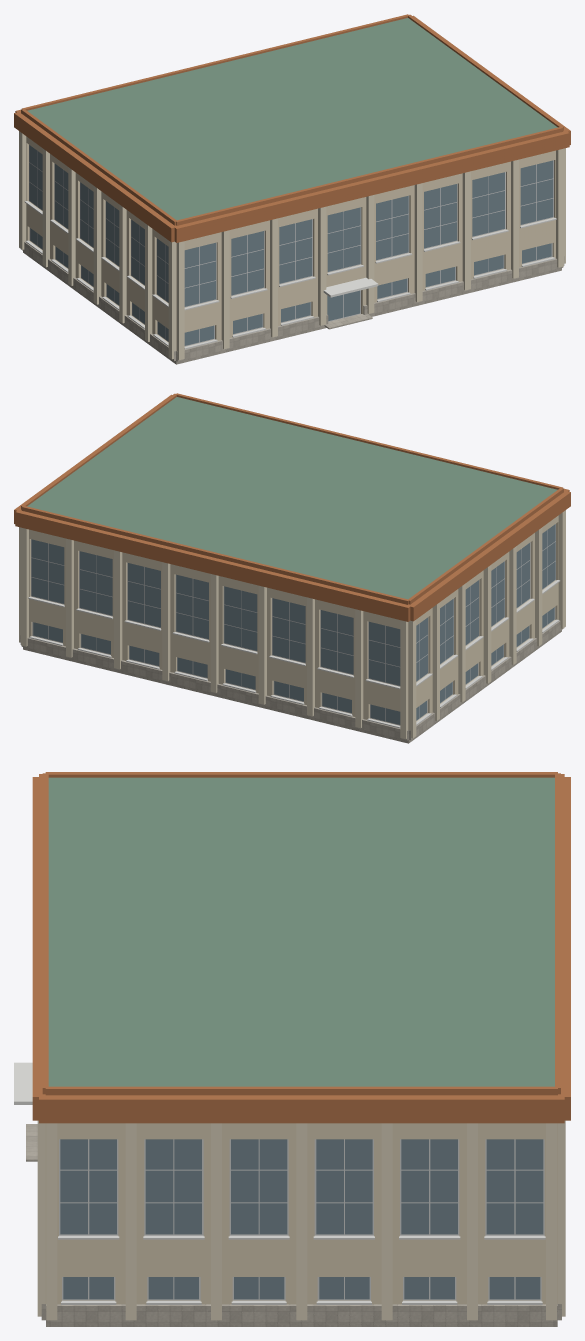
3 views of the same model, one above another, from view 1: azimuth 30°, elevation 25°; view 2: azimuth 150°, elevation 25°; view 3: azimuth 270°, elevation 25° (orthographic). The views are drawn at different scales.
Visible parts, largest first — view 1: gym__roof, gym__glass, gym__paint, gym__cornice, gym__pier, gym__stone, gym__frame, gym__sill, gym__cap; view 2: gym__roof, gym__glass, gym__paint, gym__cornice, gym__pier, gym__stone, gym__frame, gym__sill; view 3: gym__roof, gym__glass, gym__paint, gym__cornice, gym__pier, gym__stone, gym__frame, gym__sill, gym__cap.
Part boxes in pixels (box(x1,y1,x2,y2)): gym__roof: box(27, 18, 557, 220); gym__glass: box(29, 145, 553, 345); gym__paint: box(26, 136, 555, 350); gym__cornice: box(14, 14, 570, 242); gym__pier: box(19, 131, 565, 360); gym__stone: box(21, 241, 564, 364); gym__frame: box(29, 145, 553, 346); gym__sill: box(24, 201, 556, 349); gym__cap: box(323, 277, 378, 297); gym__roof: box(27, 397, 557, 599); gym__glass: box(31, 524, 555, 724); gym__paint: box(29, 515, 558, 729); gym__cornice: box(14, 393, 570, 621); gym__pier: box(19, 510, 565, 739); gym__stone: box(20, 620, 563, 743); gym__frame: box(31, 524, 555, 725); gym__sill: box(28, 580, 560, 728); gym__roof: box(48, 777, 554, 1086); gym__glass: box(60, 1139, 543, 1299); gym__paint: box(45, 1123, 557, 1304); gym__cornice: box(32, 772, 570, 1123); gym__pier: box(37, 1120, 565, 1320); gym__stone: box(41, 1304, 561, 1326); gym__frame: box(59, 1139, 544, 1300); gym__sill: box(58, 1235, 545, 1304); gym__cap: box(14, 1062, 32, 1104).
Bounding box in the file's own units: 38.54 × 13.21 × 27.87.
10 materials, 1 textured.
